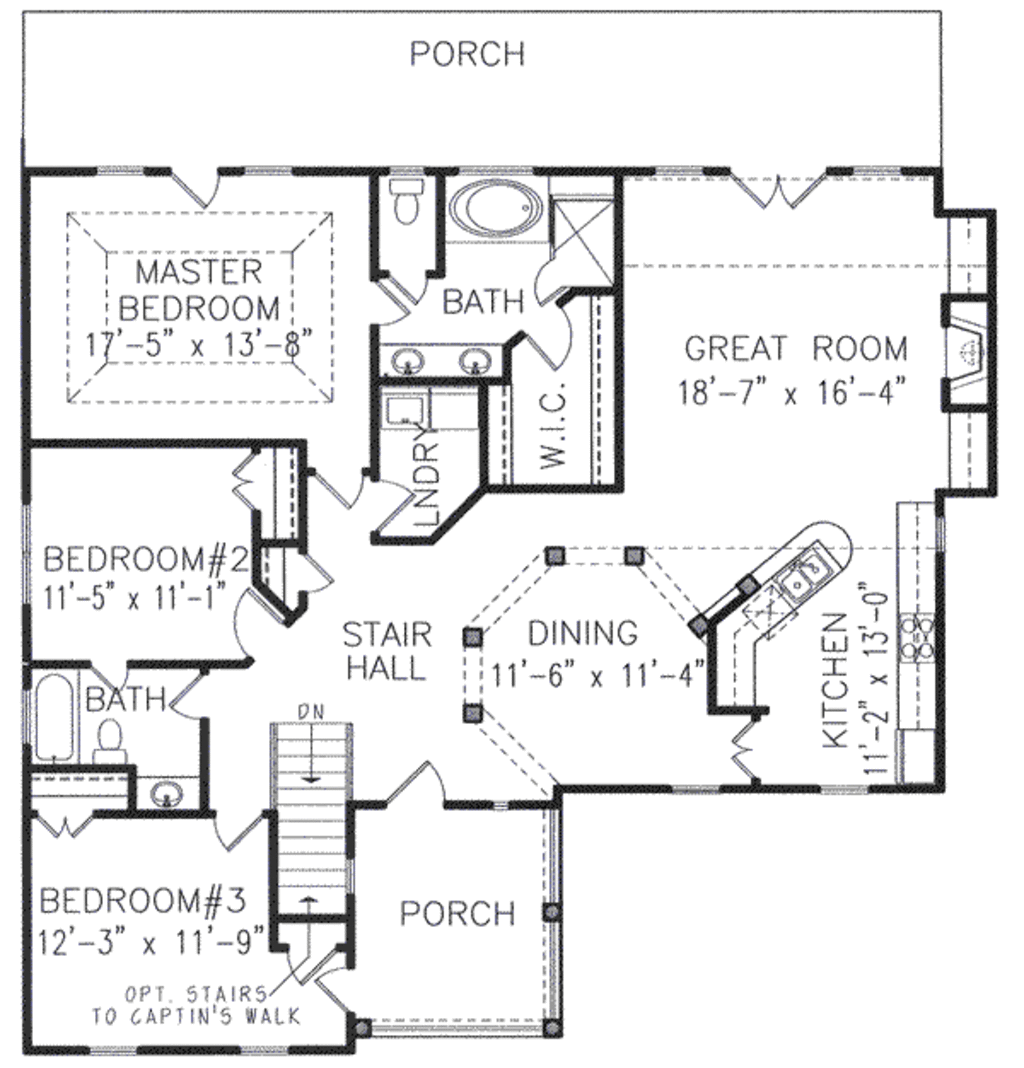door: (720, 162, 825, 209), (221, 589, 289, 659), (526, 303, 577, 372), (302, 460, 371, 511), (368, 472, 417, 542), (716, 718, 770, 780), (392, 762, 446, 818), (165, 163, 224, 212), (227, 454, 267, 522), (527, 256, 570, 314), (166, 667, 211, 722), (310, 969, 357, 1018), (365, 279, 408, 331), (210, 813, 262, 856), (290, 550, 334, 597), (81, 655, 133, 692), (36, 811, 99, 839)
large_sink: (378, 167, 431, 231)
small_sink: (371, 340, 503, 387)
stairs: (267, 698, 357, 922)
tub: (433, 167, 551, 243)
twin_sink: (770, 547, 834, 600)
